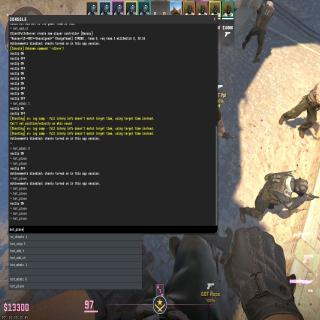CT-Body: (239, 171, 309, 221), (247, 0, 276, 53)
CT-Head: (293, 177, 308, 195)
T-Body: (288, 81, 320, 126)
T-Head: (218, 109, 222, 122)
